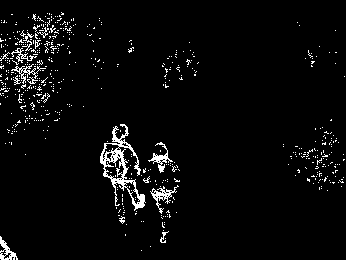person: (100, 124, 146, 223), (147, 139, 183, 245)
